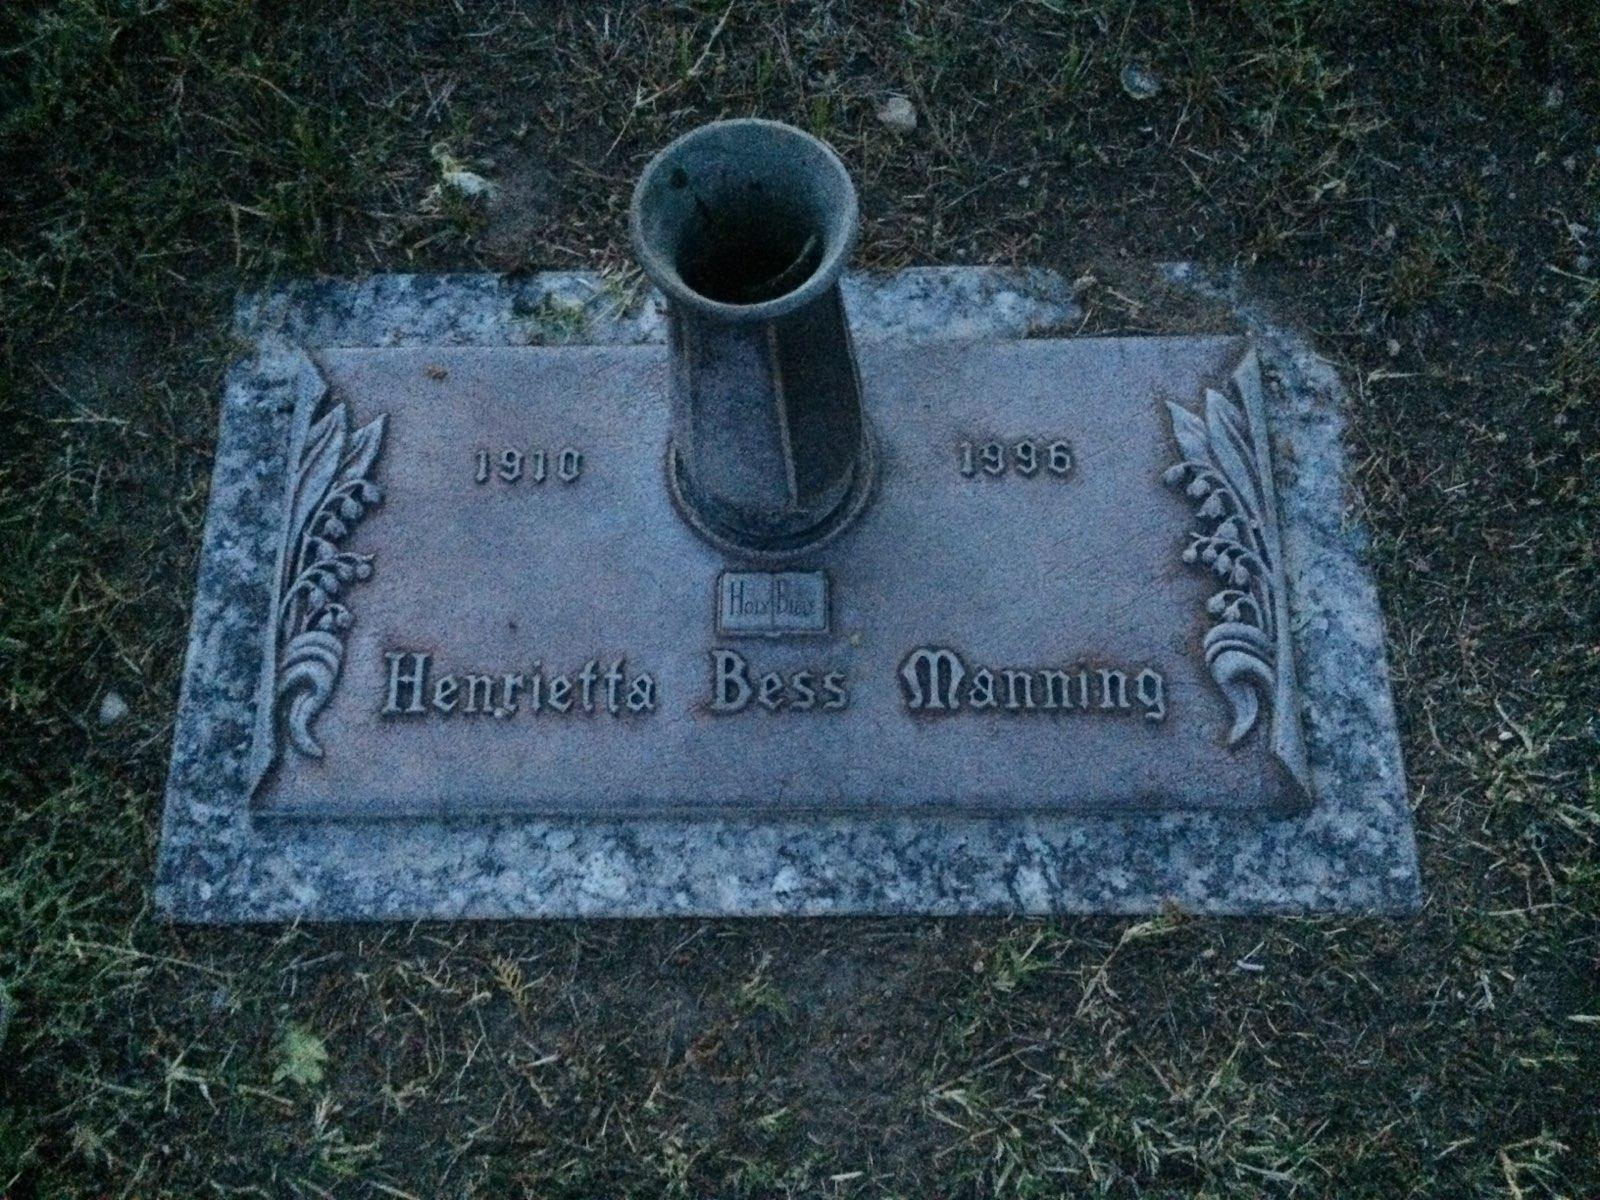flat: (142, 248, 1426, 940)
